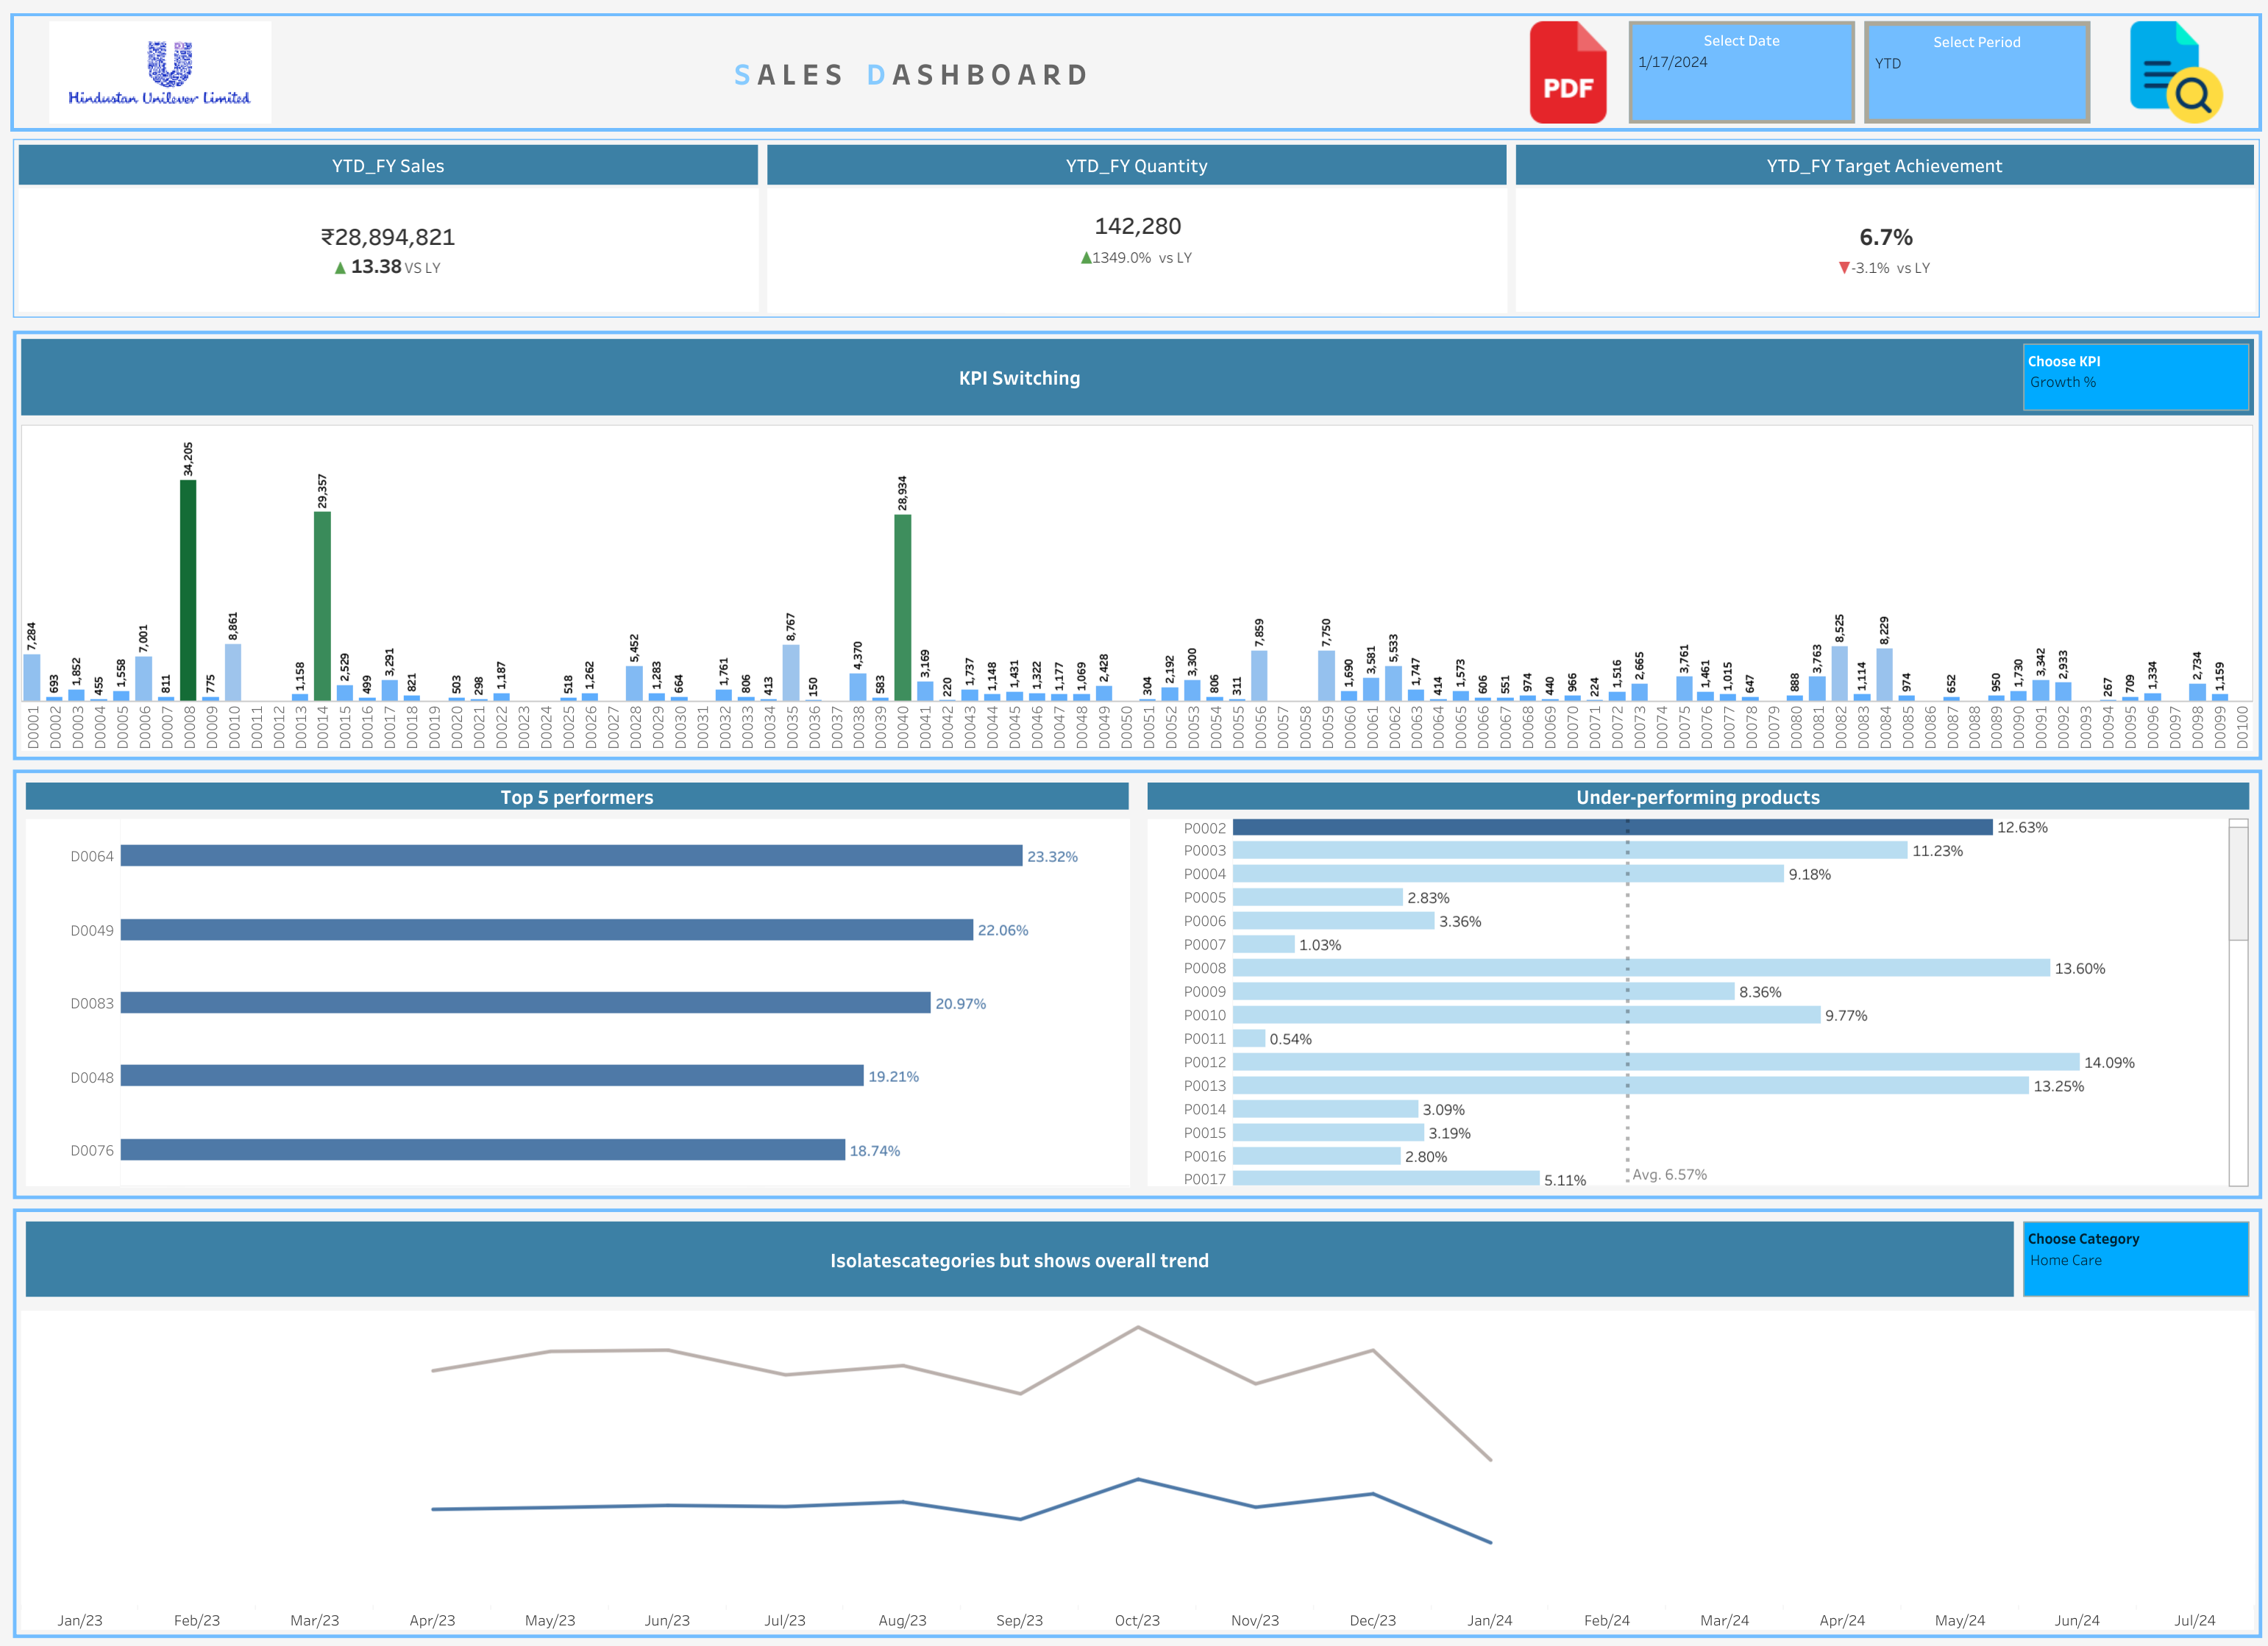

This screenshot's page, from the dashboard's own definition file:
{"tool":"tableau","page":{"name":"Final Dashboard","canvas":[1000,1000],"units":"permille","ordinal":0},"visuals":[{"type":"image","param":"Image/HUL IMAGE.png","box":[6.5,9.8,155.3,68.2]},{"type":"text","box":[161.8,9.8,439.3,68.2]},{"type":"dashboard-object","box":[601.1,9.8,59,68.2]},{"type":"parameter","param":"[Parameters].[Parameter 1]","box":[660.1,9.8,124.2,68.2]},{"type":"parameter","param":"[Parameters].[Parameter 2]","box":[784.3,9.8,124.2,68.2]},{"type":"dashboard-object","box":[908.5,9.8,86.3,68.2]},{"type":"worksheet","title":"Sales","mark":"Automatic","box":[6.8,85,329.8,107.1]},{"type":"worksheet","title":"QTY","mark":"Automatic","box":[336.7,85,329.8,107.1]},{"type":"worksheet","title":"Taget Ach %","mark":"Automatic","box":[666.5,85,329.2,107.1]},{"type":"text","box":[10.6,205.7,857.8,46.4]},{"type":"parameter","param":"[Parameters].[Parameter 3]","box":[868.3,205.7,124.2,46.4]},{"type":"worksheet","title":"KPI switching","mark":"Bar","rows":["Calculation_1059753320323063890","Calculation_1059753320323063890"],"cols":["Distributor_ID"],"box":[8.1,255,987,204.3]},{"type":"text","box":[10.6,472.2,488.8,29.3]},{"type":"text","box":[504.3,472.2,488.2,29.3]},{"type":"worksheet","title":"Top 5 Performer","mark":"Bar","rows":["Distributor_ID"],"cols":["Case Select Period (copy)_1059753319701622842"],"box":[10.6,501.4,488.8,221.4]},{"type":"worksheet","title":"Under-performing products","mark":"Automatic","rows":["Calculation_1059753319264722944"],"cols":["Case Select Period (copy)_1059753319701622842"],"box":[504.3,501.4,488.2,221.4]},{"type":"text","box":[10.6,738.6,857.8,51.4]},{"type":"filter","title":"Isolates categories but shows overall trend","param":"[federated.1ptqkul1g4en7618a66qg1r7hcij].[none:Category:nk]","box":[868.3,738.6,124.2,51.4]},{"type":"worksheet","title":"Isolates categories but shows overall trend","mark":"Line","rows":["Calculation_1059753320377626717","Calculation_1059753319692197934"],"cols":["Order_Date"],"box":[8.1,792.9,987,199.3]}]}

Visuals, with their boxes on the dashboard's canvas, which has no fixed pixel size, in thousandths of its width and height (x1, y1, x2, y2). These are canvas units, not pixel positions in the 2268x1646 screenshot, which may show the page scaled, cropped or inside an application window:
image: bbox=[6, 10, 162, 78]
text: bbox=[162, 10, 601, 78]
dashboard-object: bbox=[601, 10, 660, 78]
parameter: bbox=[660, 10, 784, 78]
parameter: bbox=[784, 10, 908, 78]
dashboard-object: bbox=[908, 10, 995, 78]
"Sales" worksheet: bbox=[7, 85, 337, 192]
"QTY" worksheet: bbox=[337, 85, 666, 192]
"Taget Ach %" worksheet: bbox=[666, 85, 996, 192]
text: bbox=[11, 206, 868, 252]
parameter: bbox=[868, 206, 992, 252]
"KPI switching" worksheet (Bar marks): bbox=[8, 255, 995, 459]
text: bbox=[11, 472, 499, 502]
text: bbox=[504, 472, 992, 502]
"Top 5 Performer" worksheet (Bar marks): bbox=[11, 501, 499, 723]
"Under-performing products" worksheet: bbox=[504, 501, 992, 723]
text: bbox=[11, 739, 868, 790]
"Isolates categories but shows overall trend" filter: bbox=[868, 739, 992, 790]
"Isolates categories but shows overall trend" worksheet (Line marks): bbox=[8, 793, 995, 992]
